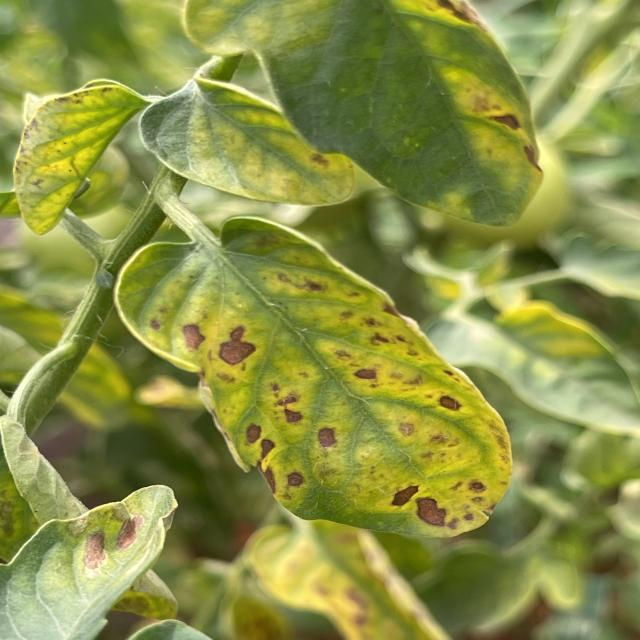tomato_early blight: (114, 192, 512, 537), (184, 0, 541, 225), (132, 78, 378, 205), (428, 288, 640, 428), (0, 478, 175, 640), (248, 503, 446, 640), (13, 78, 147, 235)
